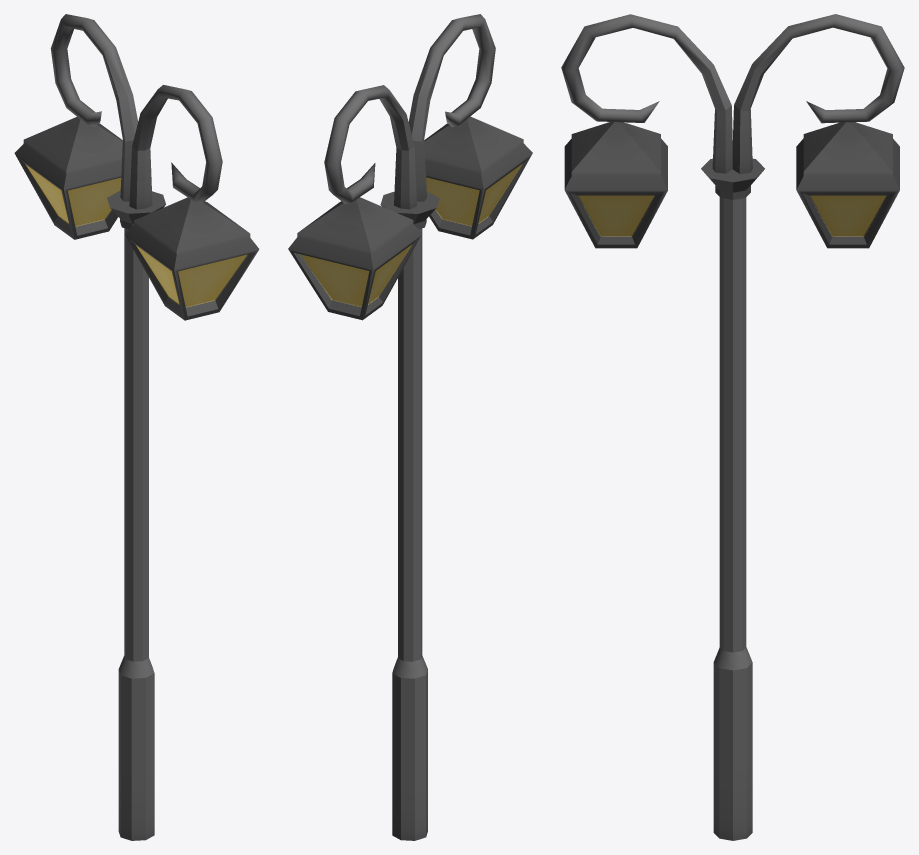
The model's file is streetlight01_double.fbx.
3 views of the same model, side by side, from view 1: azimuth 30°, elevation 25°; view 2: azimuth 150°, elevation 25°; view 3: azimuth 270°, elevation 25° (orthographic). The views are drawn at different scales.
Parts seen in each view (by area): view 1: lamp01_double2; view 2: lamp01_double2; view 3: lamp01_double2.
Part boxes in pixels (box(x1,y1,x2,y2)): lamp01_double2: box(14, 14, 259, 840); lamp01_double2: box(288, 14, 532, 840); lamp01_double2: box(561, 14, 904, 840).
Bounding box in the file's own units: 0.7306 × 6.37 × 2.42.
Materials: 1 (1 with a texture image).
